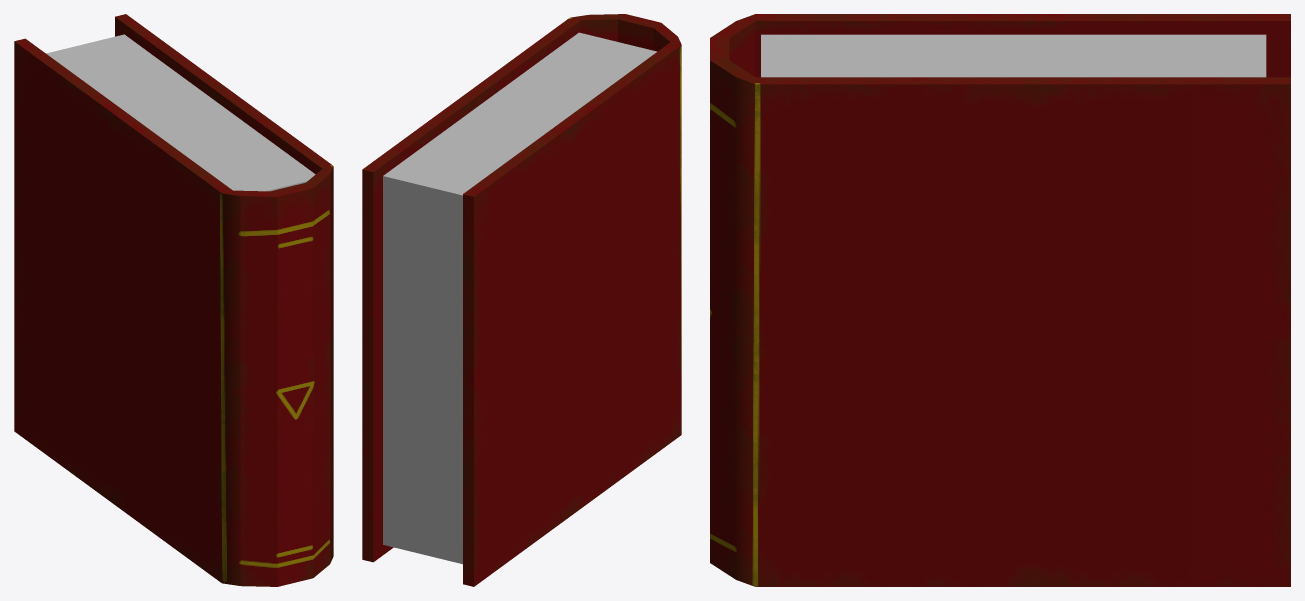
Rendered from Libro_Av2 1.fbx.
3 views of the same model, side by side, from view 1: azimuth 30°, elevation 25°; view 2: azimuth 150°, elevation 25°; view 3: azimuth 270°, elevation 25° (orthographic). The views are drawn at different scales.
Visible parts, largest first — view 1: Libro_A_geo, Hoja_A; view 2: Libro_A_geo, Hoja_A; view 3: Libro_A_geo, Hoja_A.
Boxes of the visible parts, x1,y1,x2,y2 form: Libro_A_geo: (14, 14, 333, 586); Hoja_A: (46, 34, 315, 191); Libro_A_geo: (362, 14, 681, 586); Hoja_A: (383, 32, 656, 564); Libro_A_geo: (710, 14, 1290, 586); Hoja_A: (761, 34, 1266, 77).
Bounding box in the file's own units: 7.06 × 23.54 × 24.65.
1 material, 1 textured.
